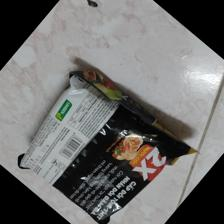3mien: (16, 68, 200, 224)
